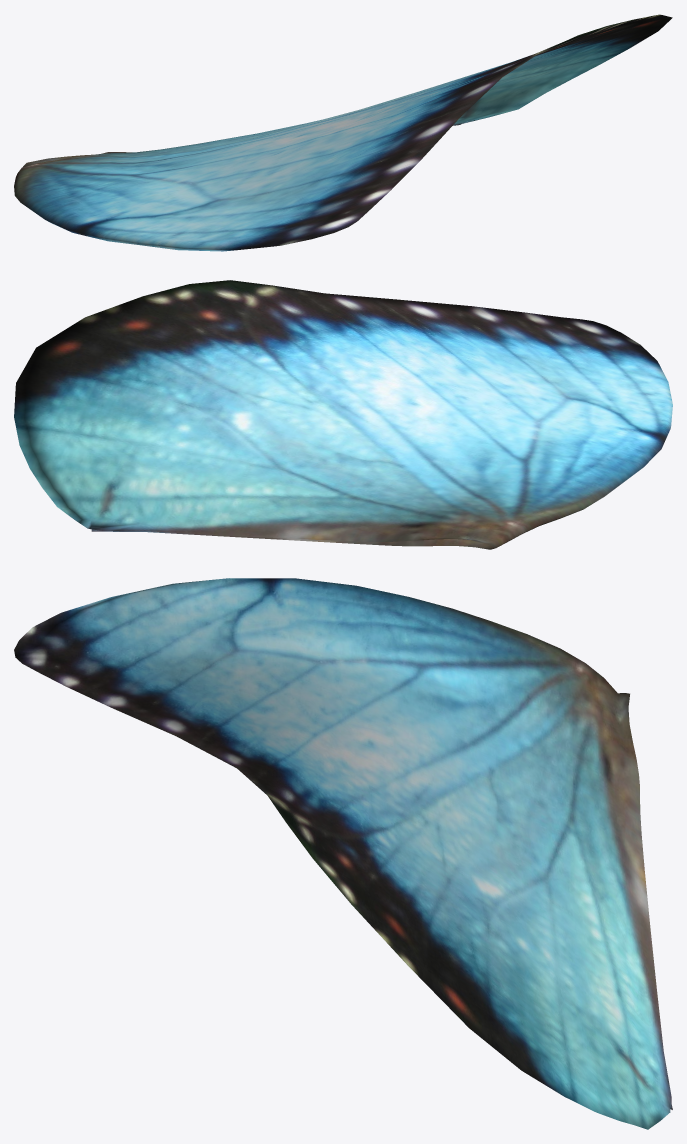
File: ala1.obj
3 renders of one model, top to bottom at view 1: azimuth 30°, elevation 25°; view 2: azimuth 150°, elevation 25°; view 3: azimuth 270°, elevation 25°, orthographic. The views are drawn at different scales.
Visible parts, largest first — view 1: ala; view 2: ala; view 3: ala.
Boxes of the visible parts, bbox=[...] form: ala: bbox=[14, 14, 672, 251]; ala: bbox=[14, 280, 672, 549]; ala: bbox=[14, 578, 672, 1129].
Bounding box in the file's own units: 23.08 × 6.46 × 14.15.
